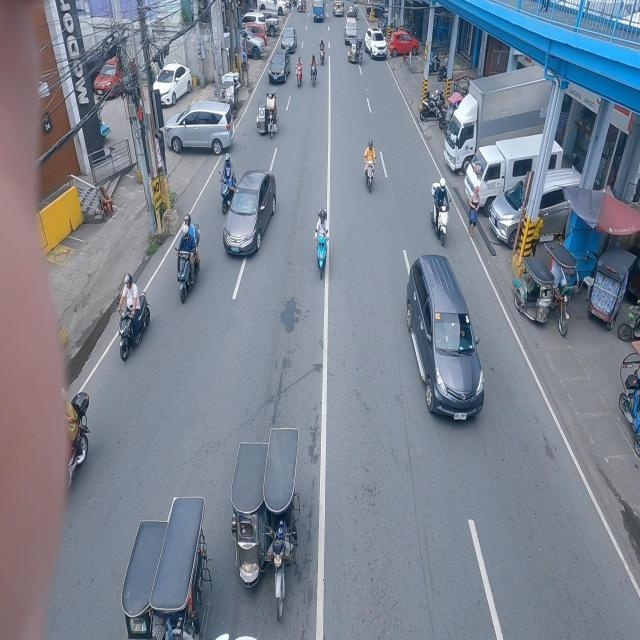Motorcycle: (117, 270, 153, 360), (172, 209, 203, 307), (427, 173, 454, 253), (312, 199, 333, 280), (215, 149, 238, 214), (360, 140, 381, 195), (308, 52, 320, 94), (294, 50, 304, 89), (318, 34, 328, 70)
Truck: (312, 1, 328, 23)
